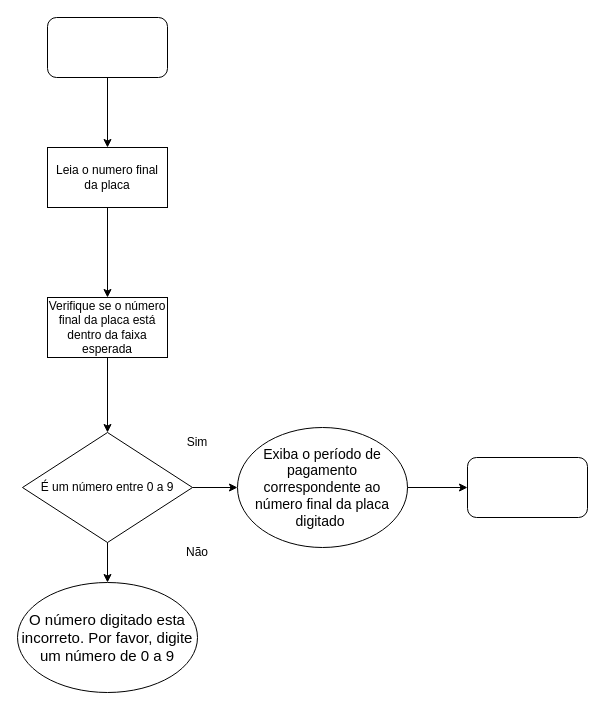
Some shapes in this 605 by 710 pixel diagram are drawn without their labels. Each missing label, with the centre of its shape:
Fim: the point at 527,487
Inicio: the point at 107,47
